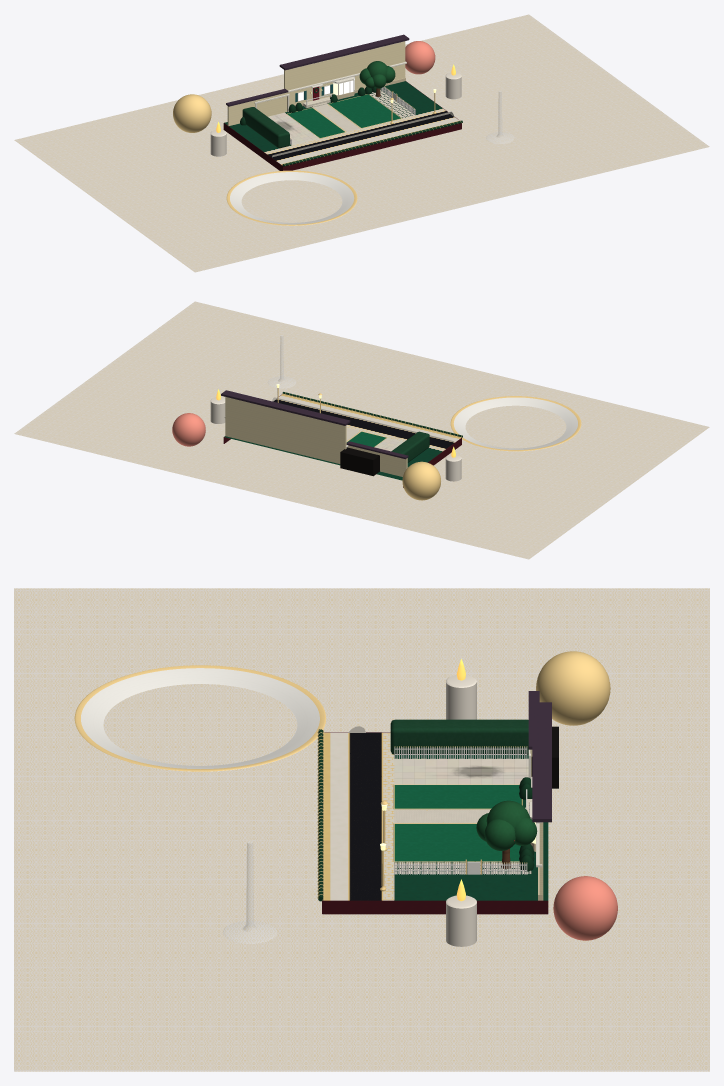
The model's file is i-fucked-your-dad.glb.
The picture shows the model from 3 angles, top to bottom: view 1: azimuth 30°, elevation 25°; view 2: azimuth 150°, elevation 25°; view 3: azimuth 270°, elevation 25°; orthographic projection. The views are drawn at different scales.
Visible parts, largest first — view 1: set.damask.nocast, set.yard_floor.mirror.nocast, set.clapboard, set.felt.nocast, set.porcelain, set.board_velvet, set.roof, set.bauble_gold, set.hedge, set.gilt.001, set.shrub, set.bauble_coral (+5 smaller); view 2: set.damask.nocast, set.clapboard, set.yard_floor.mirror.nocast, set.porcelain, set.roof, set.bauble_gold, set.bauble_coral, set.garage_dark, set.wax, set.gilt.001, set.hedge, set.shrub; view 3: set.damask.nocast, set.yard_floor.mirror.nocast, set.porcelain, set.felt.nocast, set.hedge, set.bauble_gold, set.bauble_coral, set.gilt.001, set.board_velvet, set.wax, set.picket, set.roof (+4 smaller).
Boxes of the visible parts, x1,y1,x2,y2 form: set.damask.nocast: [14, 14, 709, 272]; set.yard_floor.mirror.nocast: [224, 81, 459, 164]; set.clapboard: [227, 41, 405, 125]; set.felt.nocast: [287, 94, 400, 137]; set.porcelain: [230, 172, 354, 225]; set.board_velvet: [223, 81, 461, 170]; set.roof: [226, 34, 409, 106]; set.bauble_gold: [173, 94, 211, 132]; set.hedge: [242, 107, 289, 148]; set.gilt.001: [226, 86, 461, 225]; set.shrub: [240, 87, 462, 166]; set.bauble_coral: [405, 41, 435, 74]; set.damask.nocast: [14, 301, 709, 559]; set.clapboard: [225, 397, 407, 476]; set.yard_floor.mirror.nocast: [224, 394, 460, 480]; set.porcelain: [453, 397, 577, 451]; set.roof: [221, 390, 408, 459]; set.bauble_gold: [402, 461, 440, 500]; set.bauble_coral: [172, 413, 205, 446]; set.garage_dark: [340, 447, 379, 476]; set.wax: [210, 397, 461, 481]; set.gilt.001: [285, 392, 581, 451]; set.hedge: [391, 431, 429, 462]; set.shrub: [282, 392, 462, 437]; set.damask.nocast: [14, 588, 709, 1071]; set.yard_floor.mirror.nocast: [324, 732, 548, 900]; set.porcelain: [81, 668, 319, 771]; set.felt.nocast: [394, 785, 521, 861]; set.hedge: [390, 719, 528, 754]; set.bauble_gold: [536, 651, 610, 725]; set.bauble_coral: [553, 876, 617, 940]; set.gilt.001: [74, 665, 527, 898]; set.board_velvet: [322, 732, 548, 914]; set.wax: [446, 675, 476, 946]; set.picket: [394, 747, 527, 874]; set.roof: [528, 691, 551, 822].
Size of the model in its own units: 92 by 8.6 by 56.
Materials: 28 (19 with a texture image).
